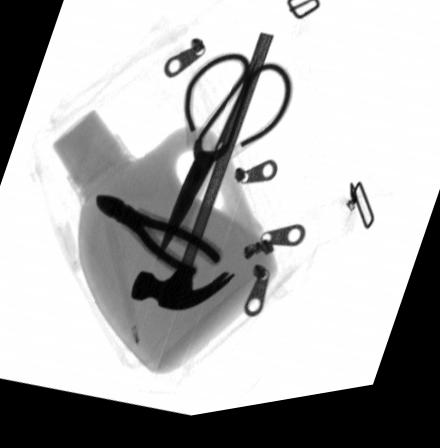Hammer: (129, 39, 273, 317)
Knife: (103, 216, 139, 349)
Pliers: (93, 197, 222, 286)
Scissors: (156, 57, 294, 264)
